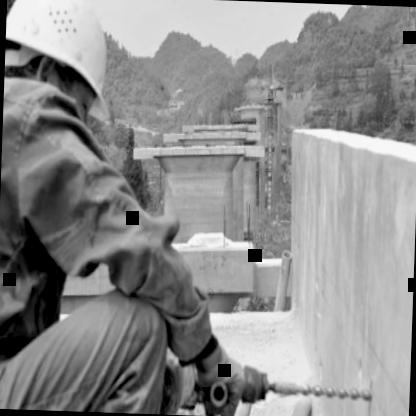helmet: (2, 0, 124, 149)
